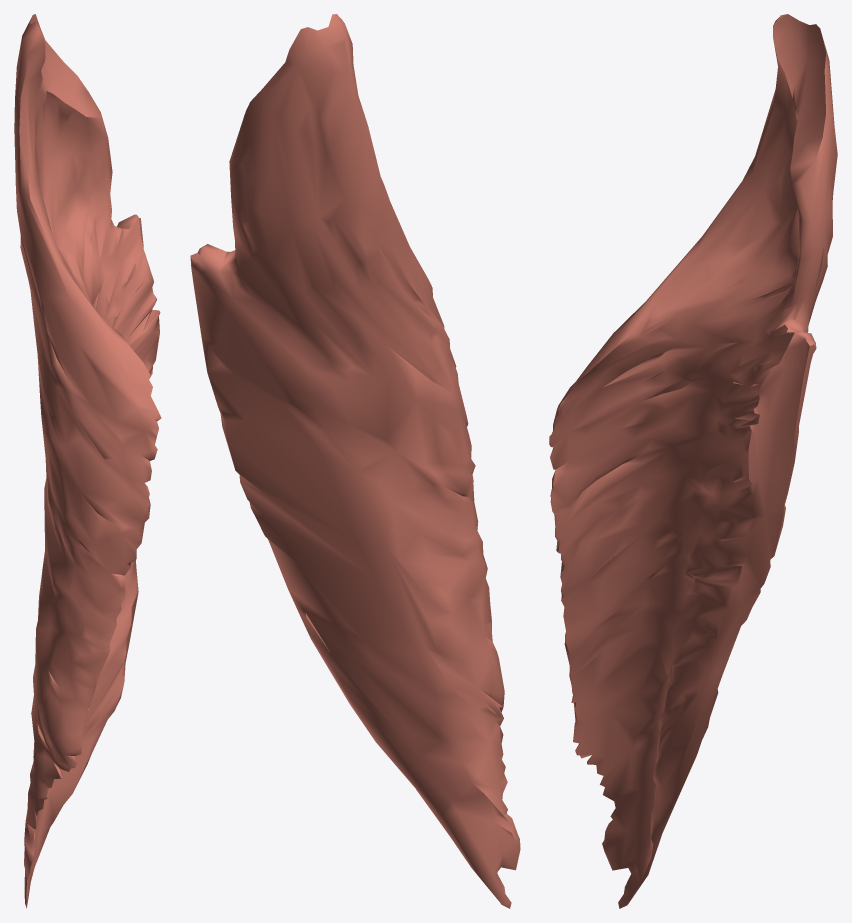
File: supinateur.glb
3 renders of one model, left to right at view 1: azimuth 30°, elevation 25°; view 2: azimuth 150°, elevation 25°; view 3: azimuth 270°, elevation 25°, orthographic. The views are drawn at different scales.
Visible parts, largest first — view 1: supinateur; view 2: supinateur; view 3: supinateur.
Part boxes in pixels (x1,y1,x2,y2): supinateur: (14,14,161,908); supinateur: (190,14,520,908); supinateur: (549,14,837,908).
Bounding box in the file's own units: 0.0329 × 0.128 × 0.0355.
